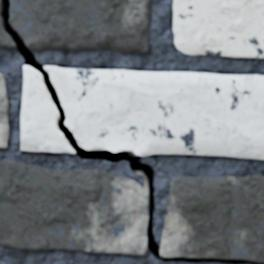brick: (0, 161, 148, 254), (160, 175, 263, 261), (173, 0, 263, 58), (0, 73, 9, 148)
broken_brick: (44, 67, 263, 159), (10, 0, 151, 53), (21, 66, 74, 153), (0, 0, 16, 48)
crack: (1, 0, 263, 263), (119, 43, 121, 52)
